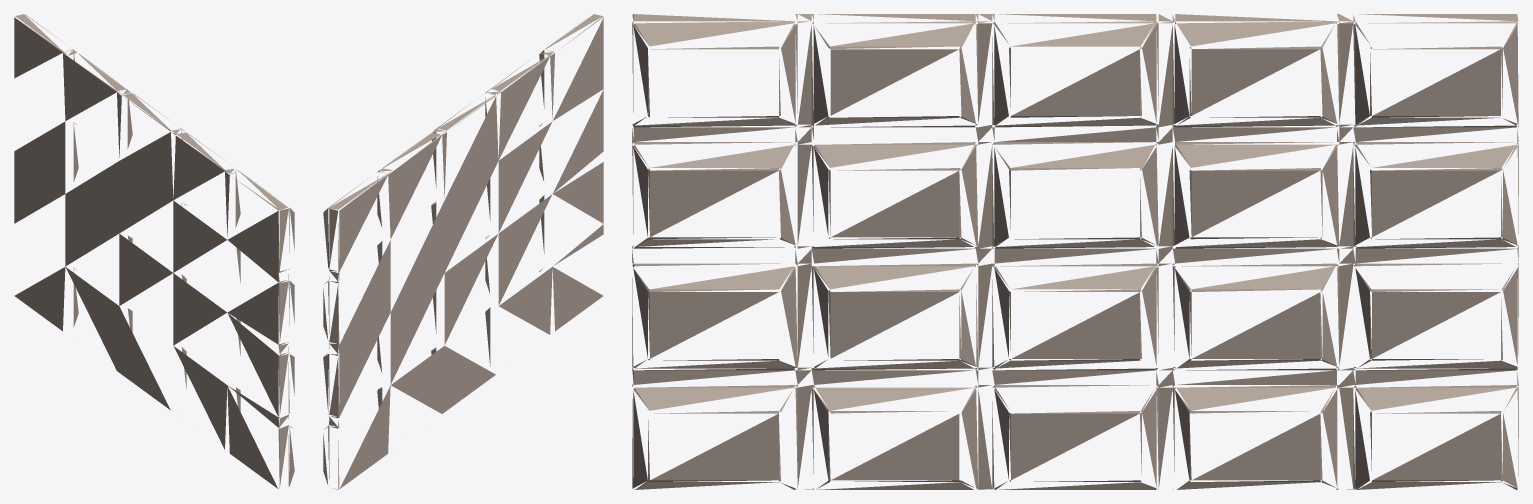
Rendered from food_processed_chocolate_c01.glb.
3 views of the same model, side by side, from view 1: azimuth 30°, elevation 25°; view 2: azimuth 150°, elevation 25°; view 3: azimuth 270°, elevation 25° (orthographic). The views are drawn at different scales.
Visible parts, largest first — view 1: geometry_0; view 2: geometry_0; view 3: geometry_0.
Part boxes in pixels (bbox=[...]): geometry_0: bbox=[14, 14, 294, 488]; geometry_0: bbox=[323, 14, 603, 489]; geometry_0: bbox=[632, 14, 1518, 489].
Size of the model in its own units: 0.022 by 0.28 by 0.48.
